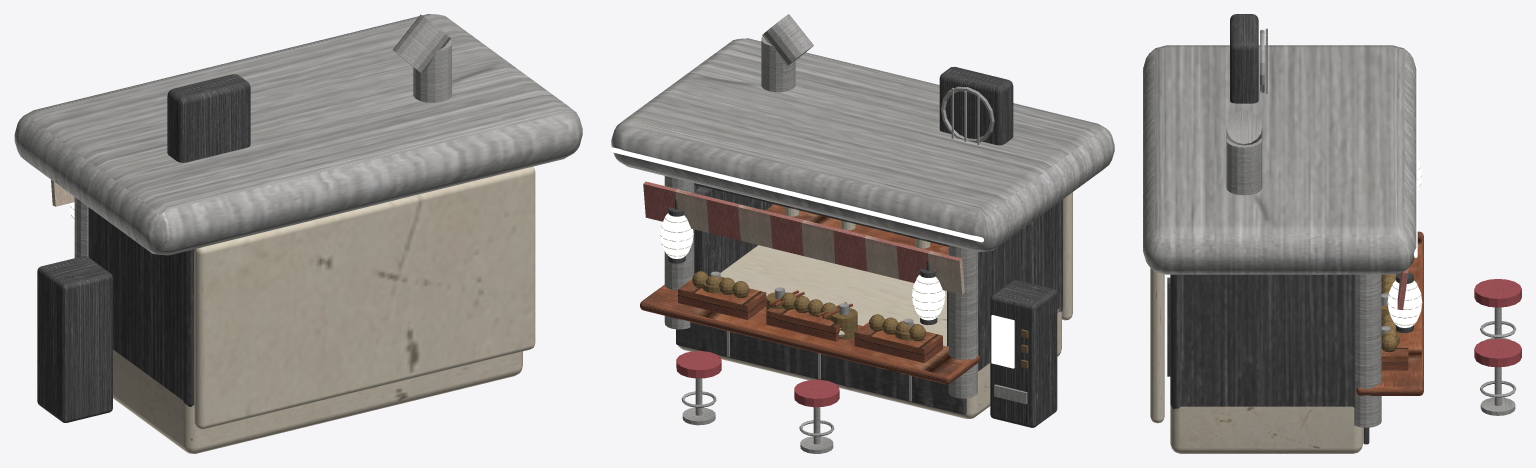
Rendered from booths.glb.
The picture shows the model from 3 angles, left to right: view 1: azimuth 30°, elevation 25°; view 2: azimuth 150°, elevation 25°; view 3: azimuth 270°, elevation 25°; orthographic projection. The views are drawn at different scales.
Parts seen in each view (by area): view 1: cafe_chrome, cafe_paint, cafe_metal; view 2: cafe_chrome, cafe_metal, cafe_fabric, cafe_paint, cafe_glow, market_fabric, market_paint, service_paint; view 3: cafe_chrome, cafe_metal, cafe_paint, cafe_fabric, cafe_glow, market_fabric, market_paint.
Boxes of the visible parts, left/top/right/bottom form: cafe_chrome: left=14, top=14, right=582, bottom=257; cafe_paint: left=113, top=167, right=535, bottom=453; cafe_metal: left=37, top=74, right=250, bottom=422; cafe_chrome: left=611, top=14, right=1114, bottom=453; cafe_metal: left=660, top=67, right=1062, bottom=427; cafe_fabric: left=640, top=181, right=979, bottom=384; cafe_paint: left=678, top=192, right=1072, bottom=418; cafe_glow: left=611, top=147, right=1014, bottom=368; market_fabric: left=678, top=279, right=942, bottom=362; market_paint: left=692, top=271, right=926, bottom=341; service_paint: left=702, top=276, right=915, bottom=340; cafe_chrome: left=1143, top=45, right=1516, bottom=427; cafe_metal: left=1167, top=14, right=1521, bottom=444; cafe_paint: left=1150, top=268, right=1363, bottom=453; cafe_fabric: left=1356, top=231, right=1423, bottom=395; cafe_glow: left=1387, top=65, right=1422, bottom=327; market_fabric: left=1381, top=331, right=1408, bottom=370; market_paint: left=1381, top=274, right=1397, bottom=352.
Size of the model in its own units: 7.4 by 5.87 by 5.89.
5 materials, 4 textured.
